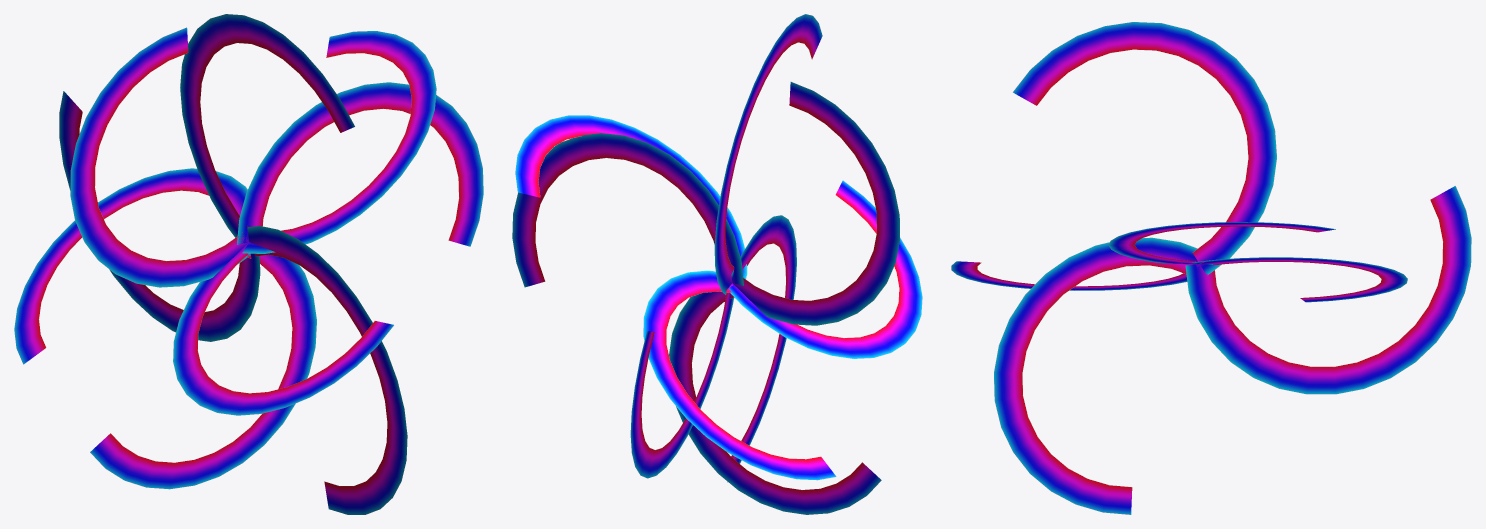
The model's file is tx_cuimian_fire.obj.
The picture shows the model from 3 angles, left to right: view 1: azimuth 30°, elevation 25°; view 2: azimuth 150°, elevation 25°; view 3: azimuth 270°, elevation 25°; orthographic projection. The views are drawn at different scales.
Visible parts, largest first — view 1: Plane02, Plane01, Plane03, Plane04, Plane06, Plane07, Plane09, Plane08, Plane05; view 2: Plane02, Plane01, Plane03, Plane08, Plane07, Plane09, Plane04, Plane05, Plane06; view 3: Plane05, Plane04, Plane06, Plane08, Plane09, Plane07.
Boxes of the visible parts, x1,y1,x2,y2 form: Plane02: [70, 27, 250, 287]; Plane01: [237, 82, 483, 246]; Plane03: [90, 254, 316, 489]; Plane04: [180, 14, 354, 237]; Plane06: [247, 226, 407, 514]; Plane07: [173, 243, 393, 415]; Plane09: [242, 31, 436, 253]; Plane08: [14, 168, 247, 364]; Plane05: [59, 91, 260, 341]; Plane02: [733, 82, 899, 325]; Plane01: [512, 133, 743, 287]; Plane03: [669, 291, 881, 514]; Plane08: [643, 270, 836, 480]; Plane07: [729, 180, 922, 358]; Plane09: [515, 115, 747, 279]; Plane04: [714, 14, 822, 294]; Plane05: [630, 285, 733, 478]; Plane06: [727, 215, 796, 482]; Plane05: [1185, 186, 1471, 394]; Plane04: [1013, 22, 1276, 275]; Plane06: [994, 237, 1199, 514]; Plane08: [1192, 257, 1407, 302]; Plane09: [1108, 222, 1335, 264]; Plane07: [951, 261, 1212, 290].
Bounding box in the file's own units: 179 × 207 × 211.
1 material, 1 textured.
